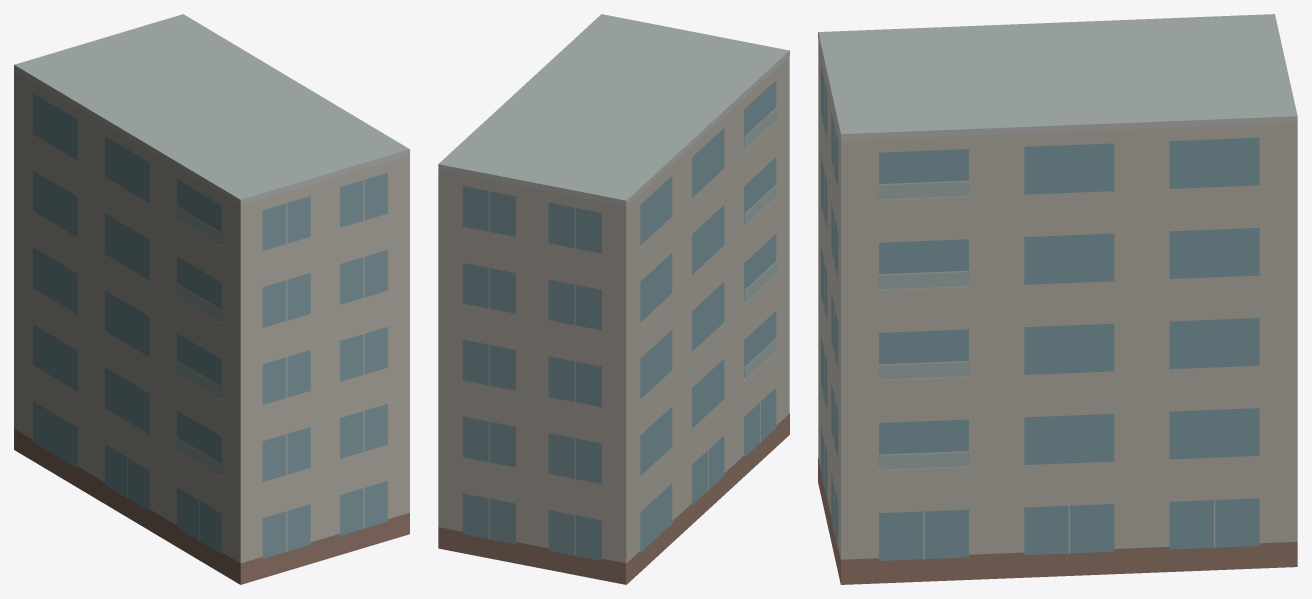
The model's file is survey-upis-32843654.glb.
The picture shows the model from 3 angles, left to right: view 1: azimuth 30°, elevation 25°; view 2: azimuth 150°, elevation 25°; view 3: azimuth 270°, elevation 25°; orthographic projection. The views are drawn at different scales.
Parts seen in each view (by area): view 1: survey-upis-32843654.tmp; view 2: survey-upis-32843654.tmp; view 3: survey-upis-32843654.tmp.
Part boxes in pixels (bbox=[...]): survey-upis-32843654.tmp: bbox=[14, 14, 409, 584]; survey-upis-32843654.tmp: bbox=[438, 14, 789, 584]; survey-upis-32843654.tmp: bbox=[818, 14, 1297, 584].
Bounding box in the file's own units: 9.56 × 16.7 × 16.11.
